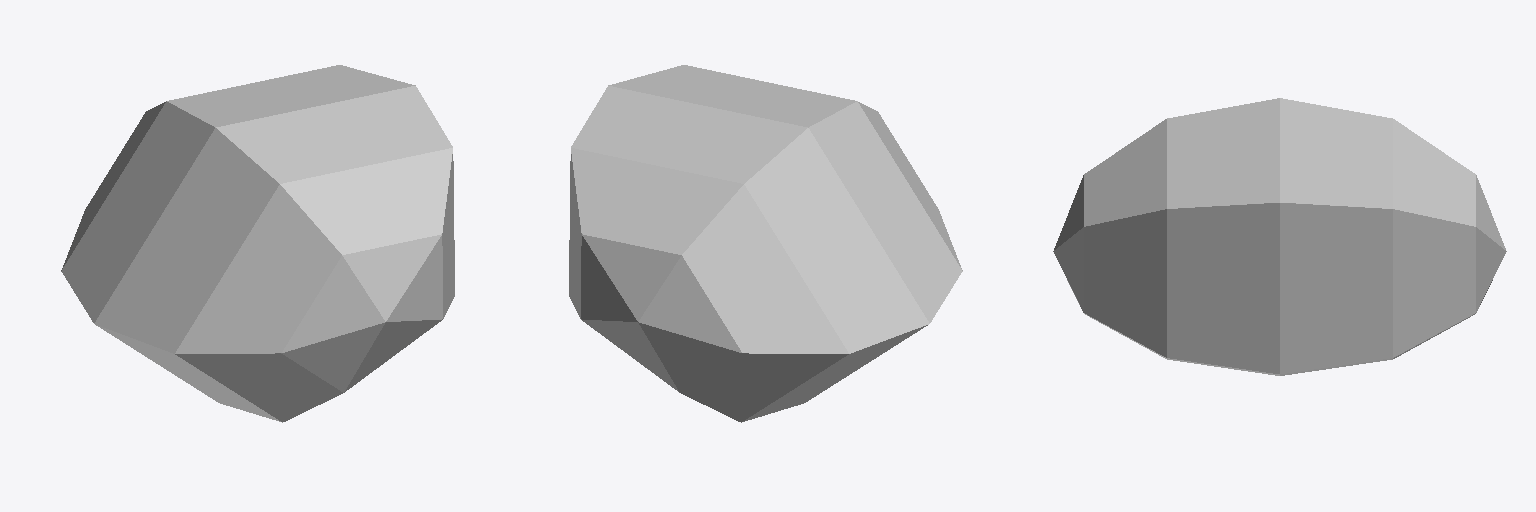
File: sutr_2.obj
3 renders of one model, left to right at view 1: azimuth 30°, elevation 25°; view 2: azimuth 150°, elevation 25°; view 3: azimuth 270°, elevation 25°, orthographic.
Parts seen in each view (by area): view 1: Sphere.001; view 2: Sphere.001; view 3: Sphere.001.
Part boxes in pixels (x1,y1,x2,y2): Sphere.001: (61,65,454,422); Sphere.001: (569,65,962,422); Sphere.001: (1053,98,1506,375).
Bounding box in the file's own units: 2.24 × 1.83 × 2.72.